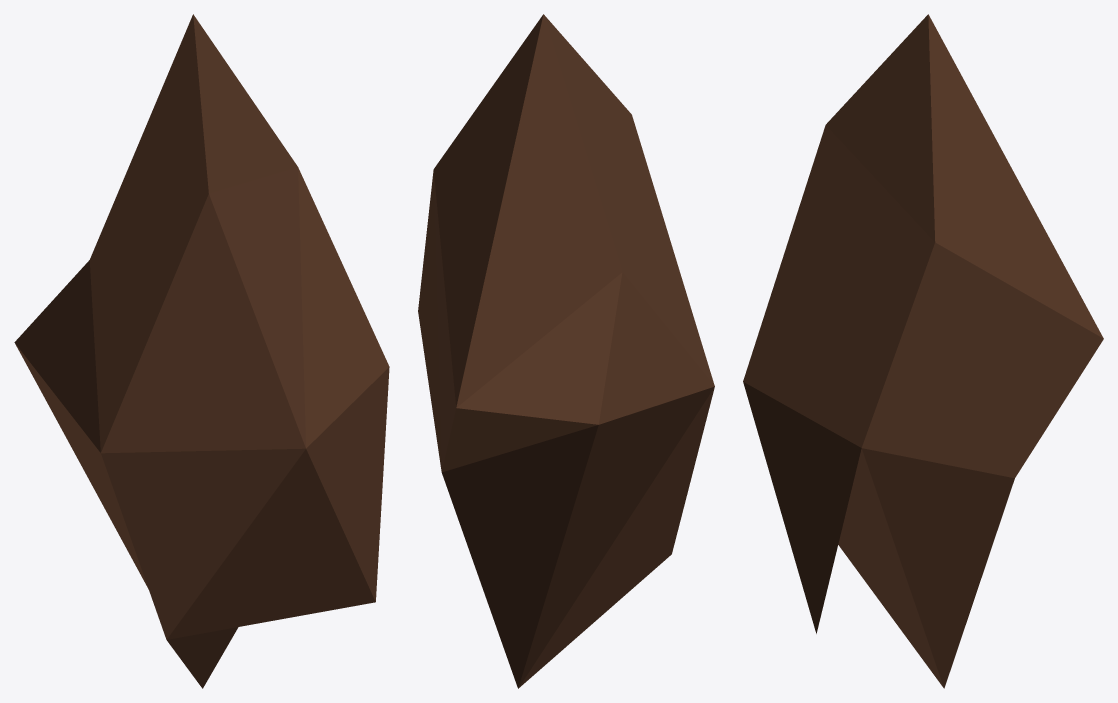
The model's file is RockShatter1.fbx.
The picture shows the model from 3 angles, left to right: view 1: azimuth 30°, elevation 25°; view 2: azimuth 150°, elevation 25°; view 3: azimuth 270°, elevation 25°; orthographic projection. The views are drawn at different scales.
Visible parts, largest first — view 1: RockShatter1; view 2: RockShatter1; view 3: RockShatter1.
Boxes of the visible parts, x1,y1,x2,y2 form: RockShatter1: (14, 14, 389, 688); RockShatter1: (418, 14, 714, 688); RockShatter1: (743, 14, 1103, 688).
Size of the model in its own units: 0.00768 by 0.017 by 0.00835.
